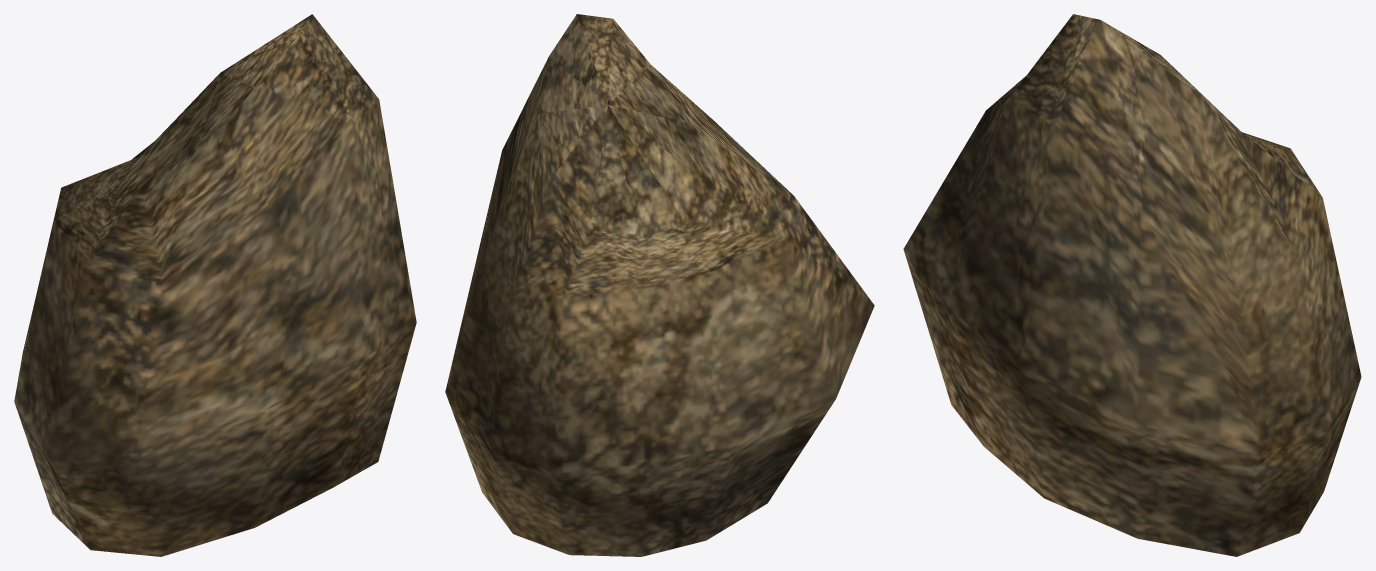
File: CH09_SMAUG_PLAYSURFACE_LONELYMOUNTAIN_LM_PLAYSURFACE13.fbx
3 renders of one model, left to right at view 1: azimuth 30°, elevation 25°; view 2: azimuth 150°, elevation 25°; view 3: azimuth 270°, elevation 25°, orthographic. The views are drawn at different scales.
Visible parts, largest first — view 1: CH09_SMAUG_PLAYSURFACE_LONELYMOUNTAIN_LM_PLAYSURFACE13; view 2: CH09_SMAUG_PLAYSURFACE_LONELYMOUNTAIN_LM_PLAYSURFACE13; view 3: CH09_SMAUG_PLAYSURFACE_LONELYMOUNTAIN_LM_PLAYSURFACE13.
Boxes of the visible parts, x1,y1,x2,y2 form: CH09_SMAUG_PLAYSURFACE_LONELYMOUNTAIN_LM_PLAYSURFACE13: [14, 14, 416, 556]; CH09_SMAUG_PLAYSURFACE_LONELYMOUNTAIN_LM_PLAYSURFACE13: [445, 14, 874, 556]; CH09_SMAUG_PLAYSURFACE_LONELYMOUNTAIN_LM_PLAYSURFACE13: [903, 14, 1361, 556].
Size of the model in its own units: 35493 by 45979 by 36308.
Materials: 1 (1 with a texture image).
